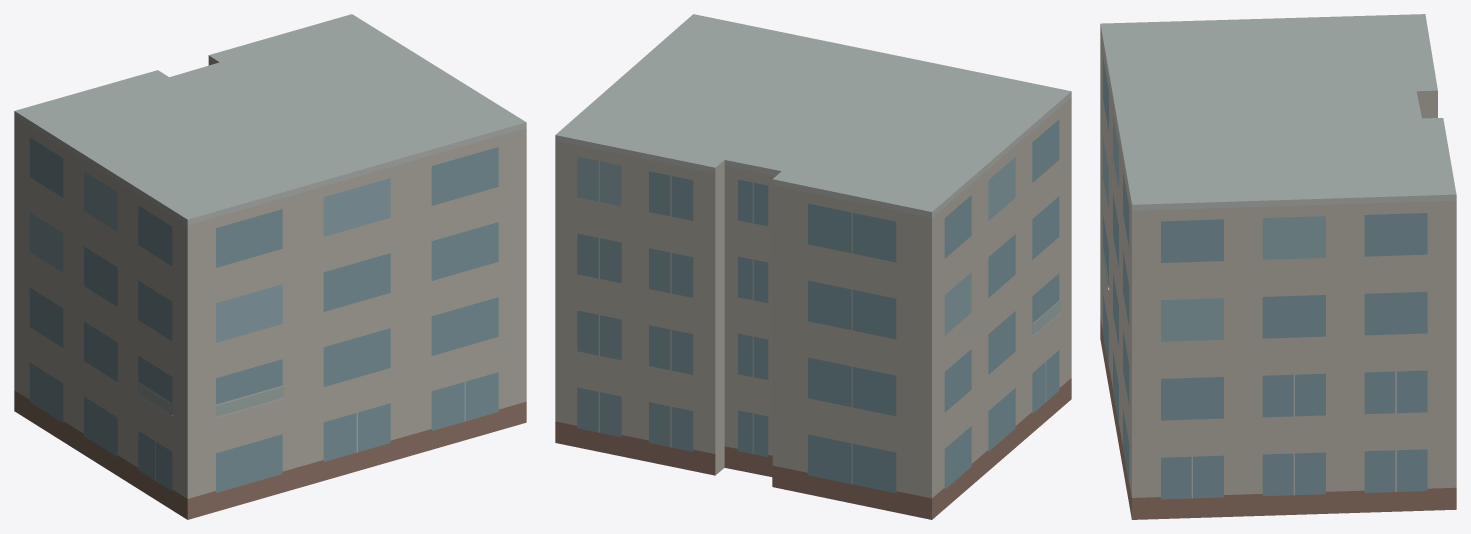
The model's file is survey-upis-32739123.glb.
3 views of the same model, side by side, from view 1: azimuth 30°, elevation 25°; view 2: azimuth 150°, elevation 25°; view 3: azimuth 270°, elevation 25° (orthographic). The views are drawn at different scales.
Parts seen in each view (by area): view 1: survey-upis-32739123.tmp; view 2: survey-upis-32739123.tmp; view 3: survey-upis-32739123.tmp.
Part boxes in pixels (<box>): survey-upis-32739123.tmp: <box>14,14,526,519</box>; survey-upis-32739123.tmp: <box>555,14,1071,519</box>; survey-upis-32739123.tmp: <box>1100,14,1456,519</box>.
Bounding box in the file's own units: 16.63 × 12.8 × 13.12.
